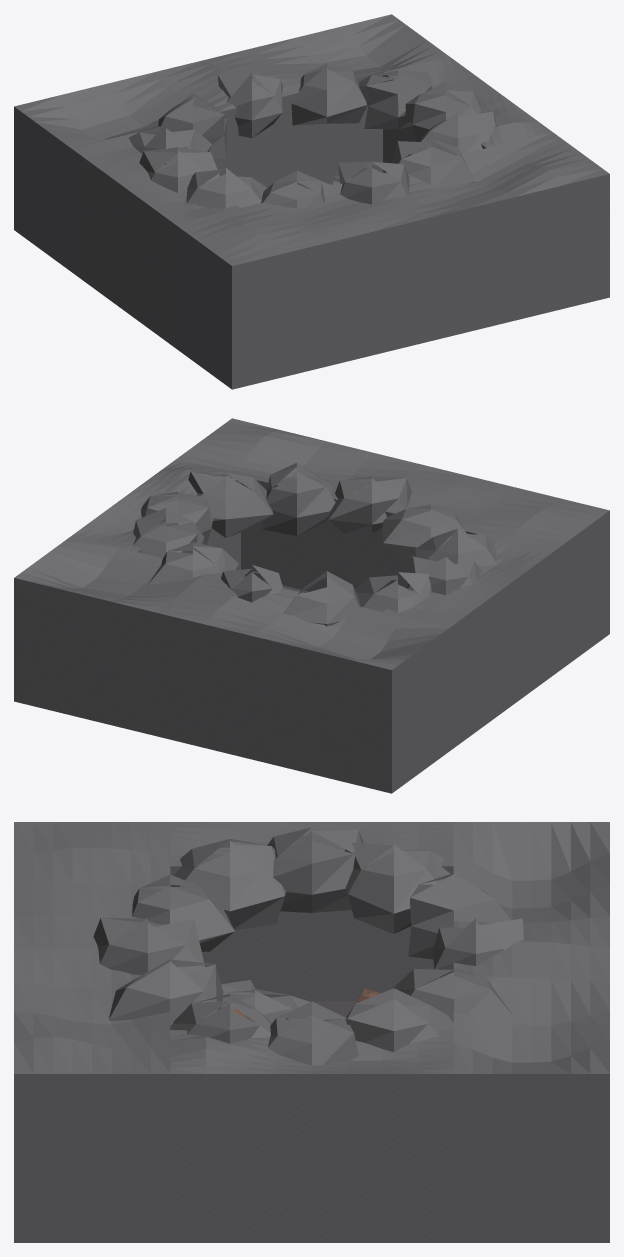
File: volcano-and-lava-fields-volcano-and-lava-fields-collap-b235ee42__37454.glb
3 views of the same model, one above another, from view 1: azimuth 30°, elevation 25°; view 2: azimuth 150°, elevation 25°; view 3: azimuth 270°, elevation 25° (orthographic). The views are drawn at different scales.
Visible parts, largest first — view 1: volcano-and-lava-fields-collapsed-tube-roof; view 2: volcano-and-lava-fields-collapsed-tube-roof; view 3: volcano-and-lava-fields-collapsed-tube-roof.
Part boxes in pixels (x1,y1,x2,y2): volcano-and-lava-fields-collapsed-tube-roof: (14, 14, 609, 389); volcano-and-lava-fields-collapsed-tube-roof: (14, 418, 609, 793); volcano-and-lava-fields-collapsed-tube-roof: (14, 822, 609, 1242).
Size of the model in its own units: 4 by 1.49 by 4.
3 materials, 2 textured.
